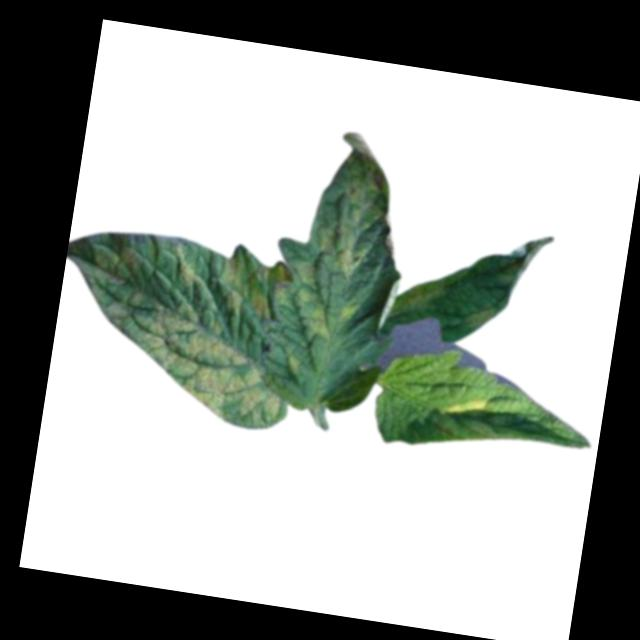Leaf_Mold: (46, 224, 310, 434), (309, 127, 401, 283), (301, 292, 359, 343), (441, 390, 488, 420), (465, 297, 504, 332)
